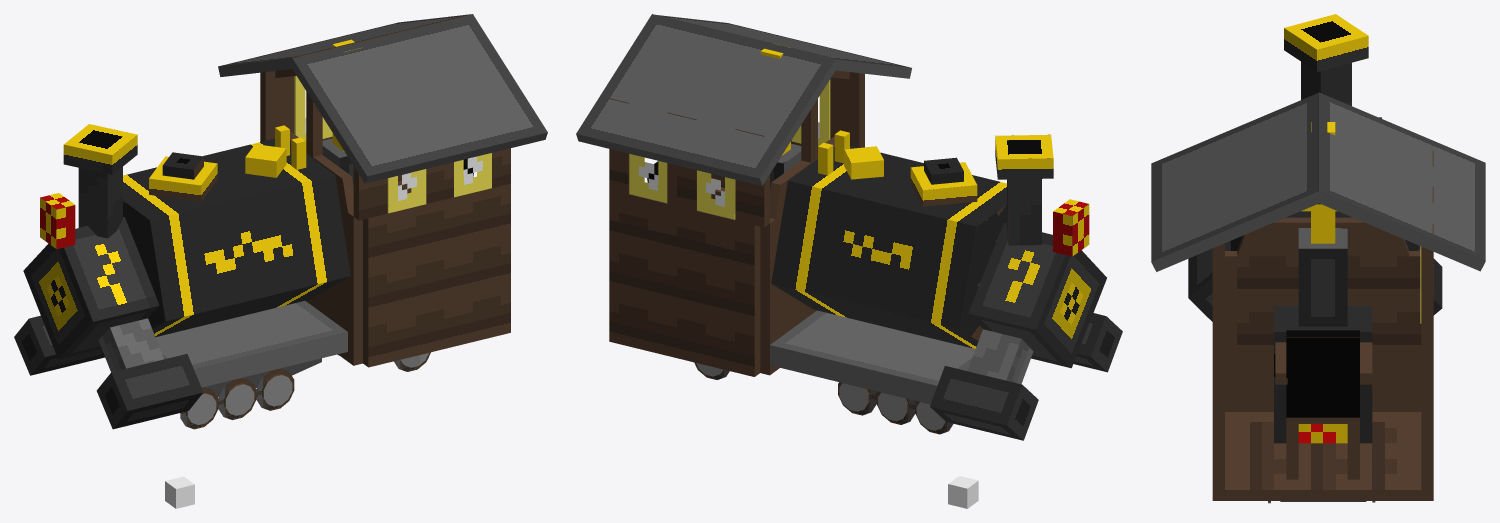
Rendered from train_loco.glb.
The picture shows the model from 3 angles, left to right: view 1: azimuth 30°, elevation 25°; view 2: azimuth 150°, elevation 25°; view 3: azimuth 270°, elevation 25°; orthographic projection. The views are drawn at different scales.
Visible parts, largest first — view 1: cylinder_2, cube_45, cube_25, cube_1, cube_57, cube_69, cube_27, cube_46, cube_5, cube_4, cube_11, cube_13 (+18 smaller); view 2: cylinder_2, cube_46, cube_26, cube_1, cube_57, cube_13, cube_27, cube_45, cube_5, cube_12, cube_4, cube_36 (+16 smaller); view 3: cube_45, cube_46, cube_27, cube_24, cube_53, cube_70, cube_47, cube_28, cube_5, cube_25, cube_26, cube_4 (+11 smaller).
Part boxes in pixels (left/top/right/bottom): cylinder_2: left=123, top=138, right=350, bottom=337; cube_45: left=290, top=15, right=547, bottom=183; cube_25: left=363, top=183, right=510, bottom=367; cube_1: left=23, top=217, right=159, bottom=359; cube_57: left=155, top=301, right=347, bottom=387; cube_69: left=96, top=354, right=203, bottom=429; cube_27: left=305, top=207, right=362, bottom=365; cube_46: left=218, top=14, right=473, bottom=76; cube_5: left=63, top=124, right=137, bottom=174; cube_4: left=78, top=167, right=122, bottom=238; cube_11: left=98, top=318, right=163, bottom=372; cube_13: left=14, top=315, right=104, bottom=375; cylinder_2: left=771, top=145, right=1006, bottom=348; cube_46: left=576, top=14, right=838, bottom=185; cube_26: left=609, top=190, right=760, bottom=376; cube_1: left=968, top=223, right=1106, bottom=368; cube_57: left=770, top=310, right=975, bottom=404; cube_13: left=930, top=365, right=1038, bottom=440; cube_27: left=760, top=214, right=816, bottom=375; cube_45: left=657, top=15, right=911, bottom=78; cube_5: left=995, top=134, right=1053, bottom=179; cube_12: left=967, top=329, right=1033, bottom=384; cube_4: left=1007, top=179, right=1041, bottom=245; cube_36: left=830, top=72, right=864, bottom=147; cube_45: left=1151, top=93, right=1322, bottom=271; cube_46: left=1314, top=92, right=1485, bottom=271; cube_27: left=1225, top=251, right=1421, bottom=411; cube_24: left=1225, top=412, right=1421, bottom=500; cube_53: left=1286, top=330, right=1359, bottom=417; cube_70: left=1298, top=228, right=1347, bottom=326; cube_47: left=1274, top=306, right=1372, bottom=443; cube_28: left=1237, top=217, right=1409, bottom=256; cube_5: left=1284, top=14, right=1368, bottom=71; cube_25: left=1212, top=334, right=1224, bottom=500; cube_26: left=1421, top=334, right=1433, bottom=500; cube_4: left=1301, top=61, right=1351, bottom=105.
Bounding box in the file's own units: 2.78 × 2.58 × 1.7.
Materials: 3 (2 with a texture image).
